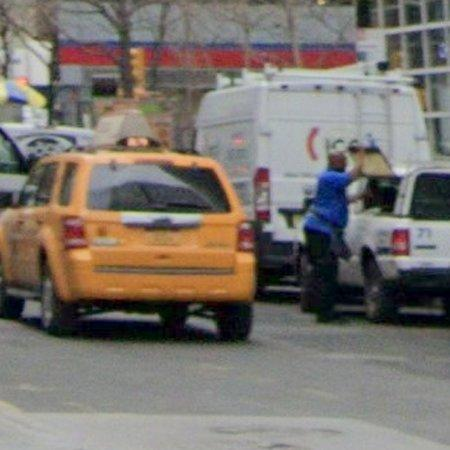taxis: (0, 110, 256, 341)
